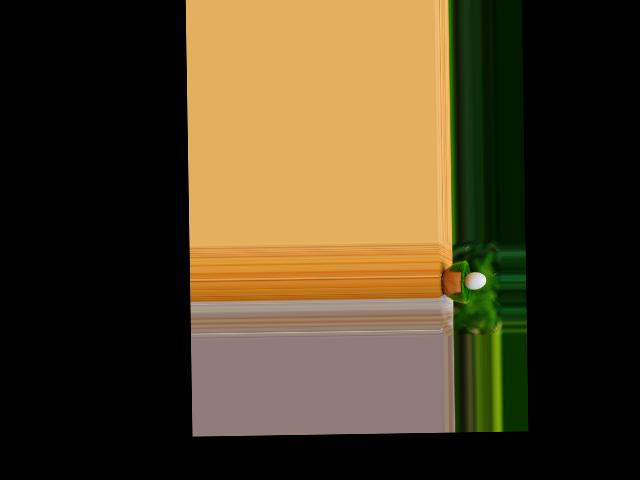egg: (463, 272, 486, 290)
